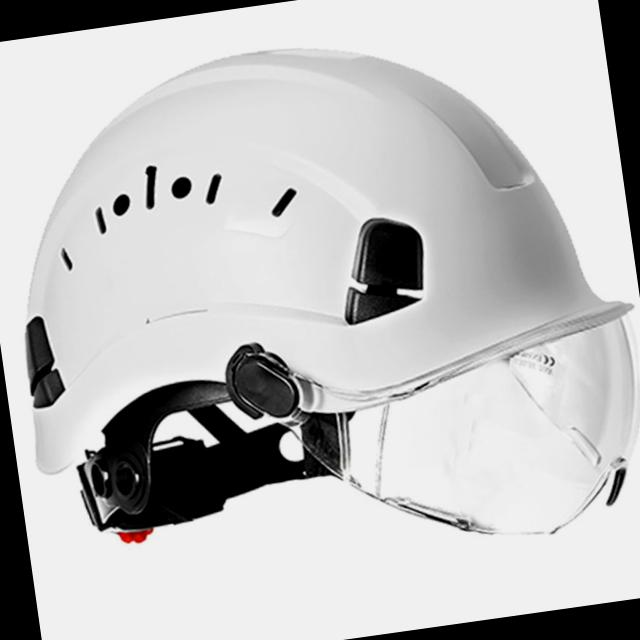goggles: (280, 331, 640, 562)
helmet: (6, 16, 640, 599)
